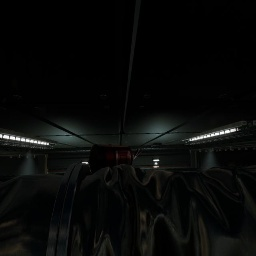FireExtinguisher ]: (89, 143, 142, 174)
